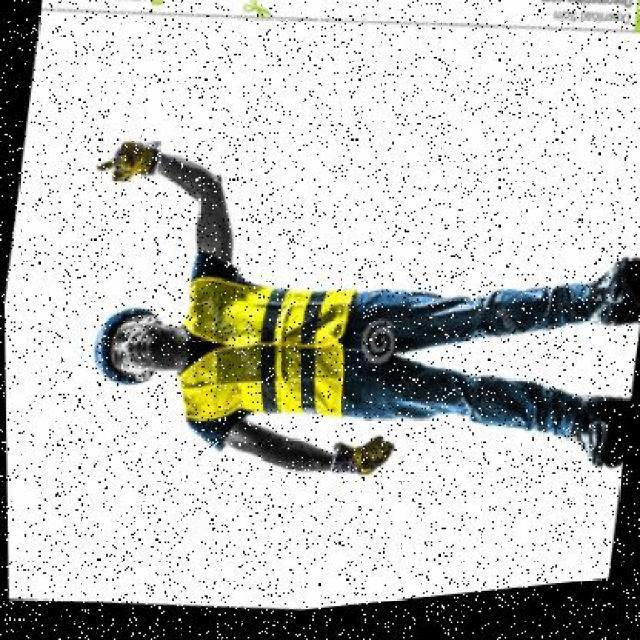helmet: (83, 289, 151, 399)
vest: (163, 236, 379, 475)
